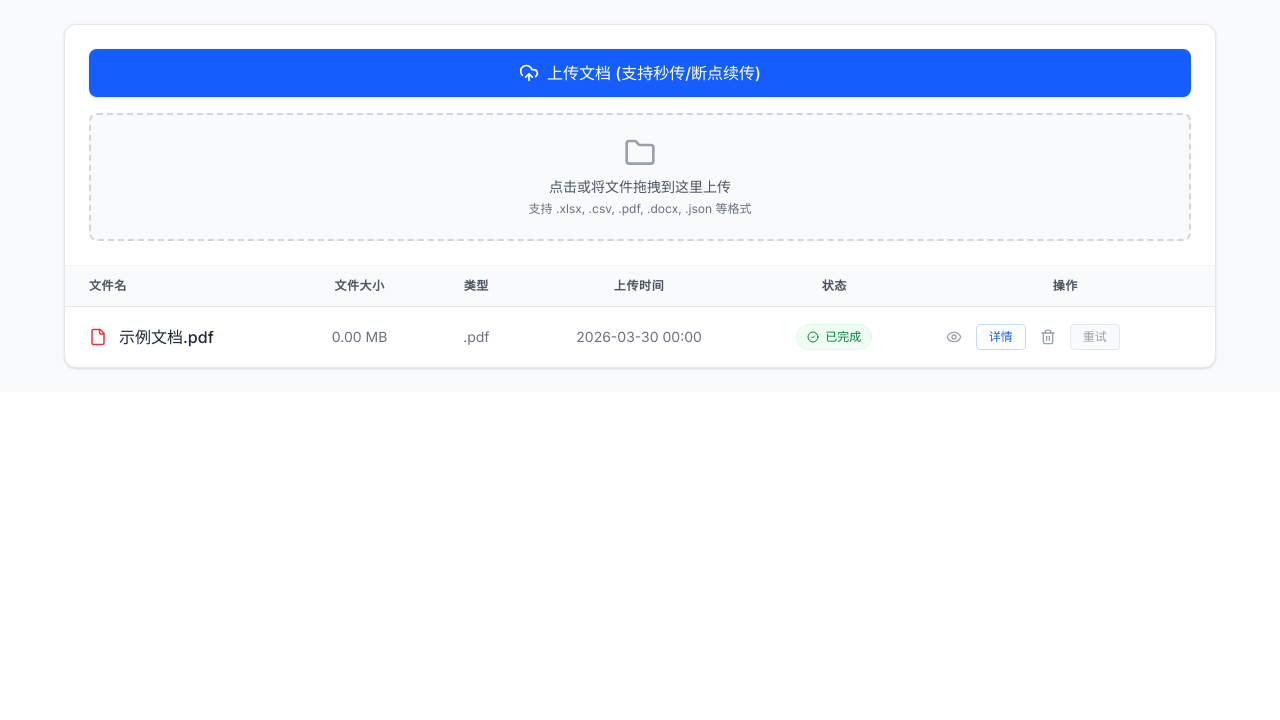
Test case: DocumentListPanel preview integration › falls back to legacy preview when preview flags request fails
This screenshot has width=1280, height=720.
Click the button named "预览": click(954, 337) [940,323,968,351]
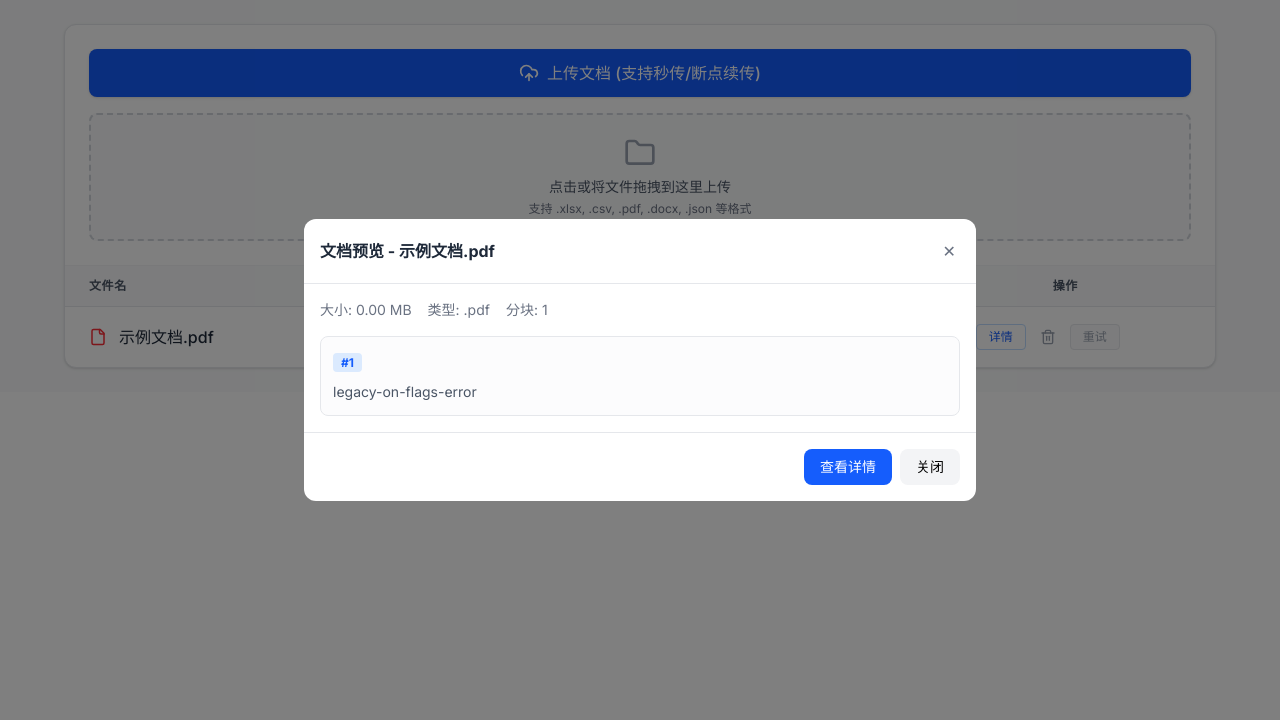
Check: the element with test id "legacy-preview-modal-surface" is shown, box [304,219,976,501]
Check: the text "legacy-on-flags-error" is shown, box [333,383,477,400]
